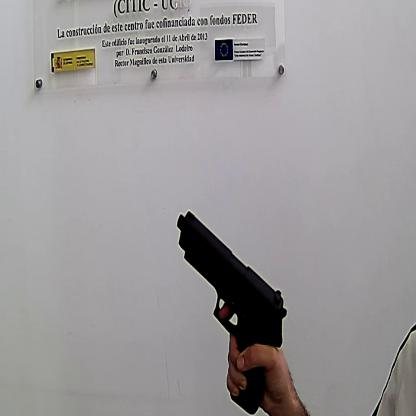gun: (175, 209, 288, 414)
